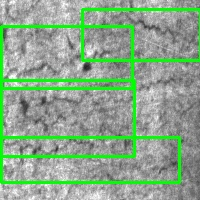crazing: (1, 80, 134, 156), (1, 26, 132, 88), (1, 137, 179, 182), (82, 9, 200, 60)
